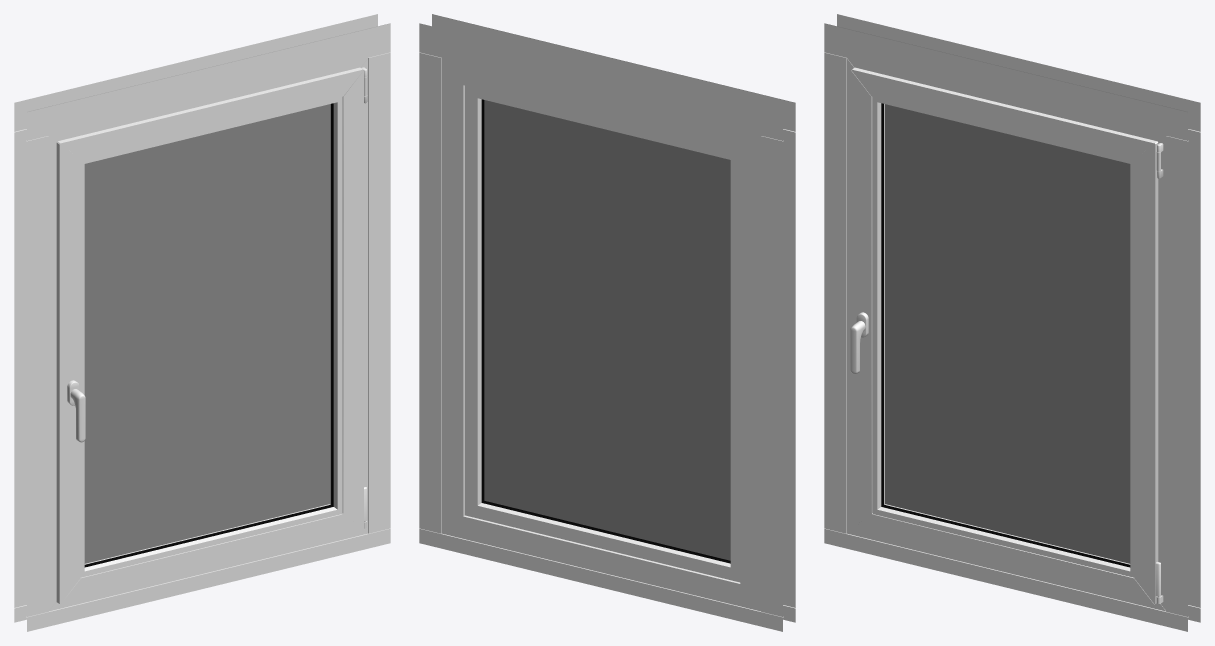
The model's file is single-hung-window.glb.
The picture shows the model from 3 angles, left to right: view 1: azimuth 30°, elevation 25°; view 2: azimuth 150°, elevation 25°; view 3: azimuth 330°, elevation 25°; orthographic projection.
Visible parts, largest first — view 1: Plane, #WIN0003_Frame, #WIN0003_Window, #WIN0003_Handle; view 2: Plane, #WIN0003_Frame, #WIN0003_Window; view 3: Plane, #WIN0003_Frame, #WIN0003_Window, #WIN0003_Handle.
Boxes of the visible parts, x1=… form: Plane: x1=84, y1=104, x2=329, y2=563; #WIN0003_Frame: x1=14, y1=14, x2=390, y2=631; #WIN0003_Window: x1=56, y1=67, x2=367, y2=604; #WIN0003_Handle: x1=70, y1=389, x2=85, y2=442; Plane: x1=484, y1=100, x2=730, y2=560; #WIN0003_Frame: x1=419, y1=14, x2=795, y2=631; #WIN0003_Window: x1=465, y1=85, x2=740, y2=582; Plane: x1=885, y1=104, x2=1130, y2=563; #WIN0003_Frame: x1=824, y1=14, x2=1200, y2=631; #WIN0003_Window: x1=851, y1=67, x2=1160, y2=604; #WIN0003_Handle: x1=850, y1=321, x2=865, y2=374.
Bounding box in the file's own units: 1.04 × 1.42 × 0.128.
Materials: 2 (1 with a texture image).
